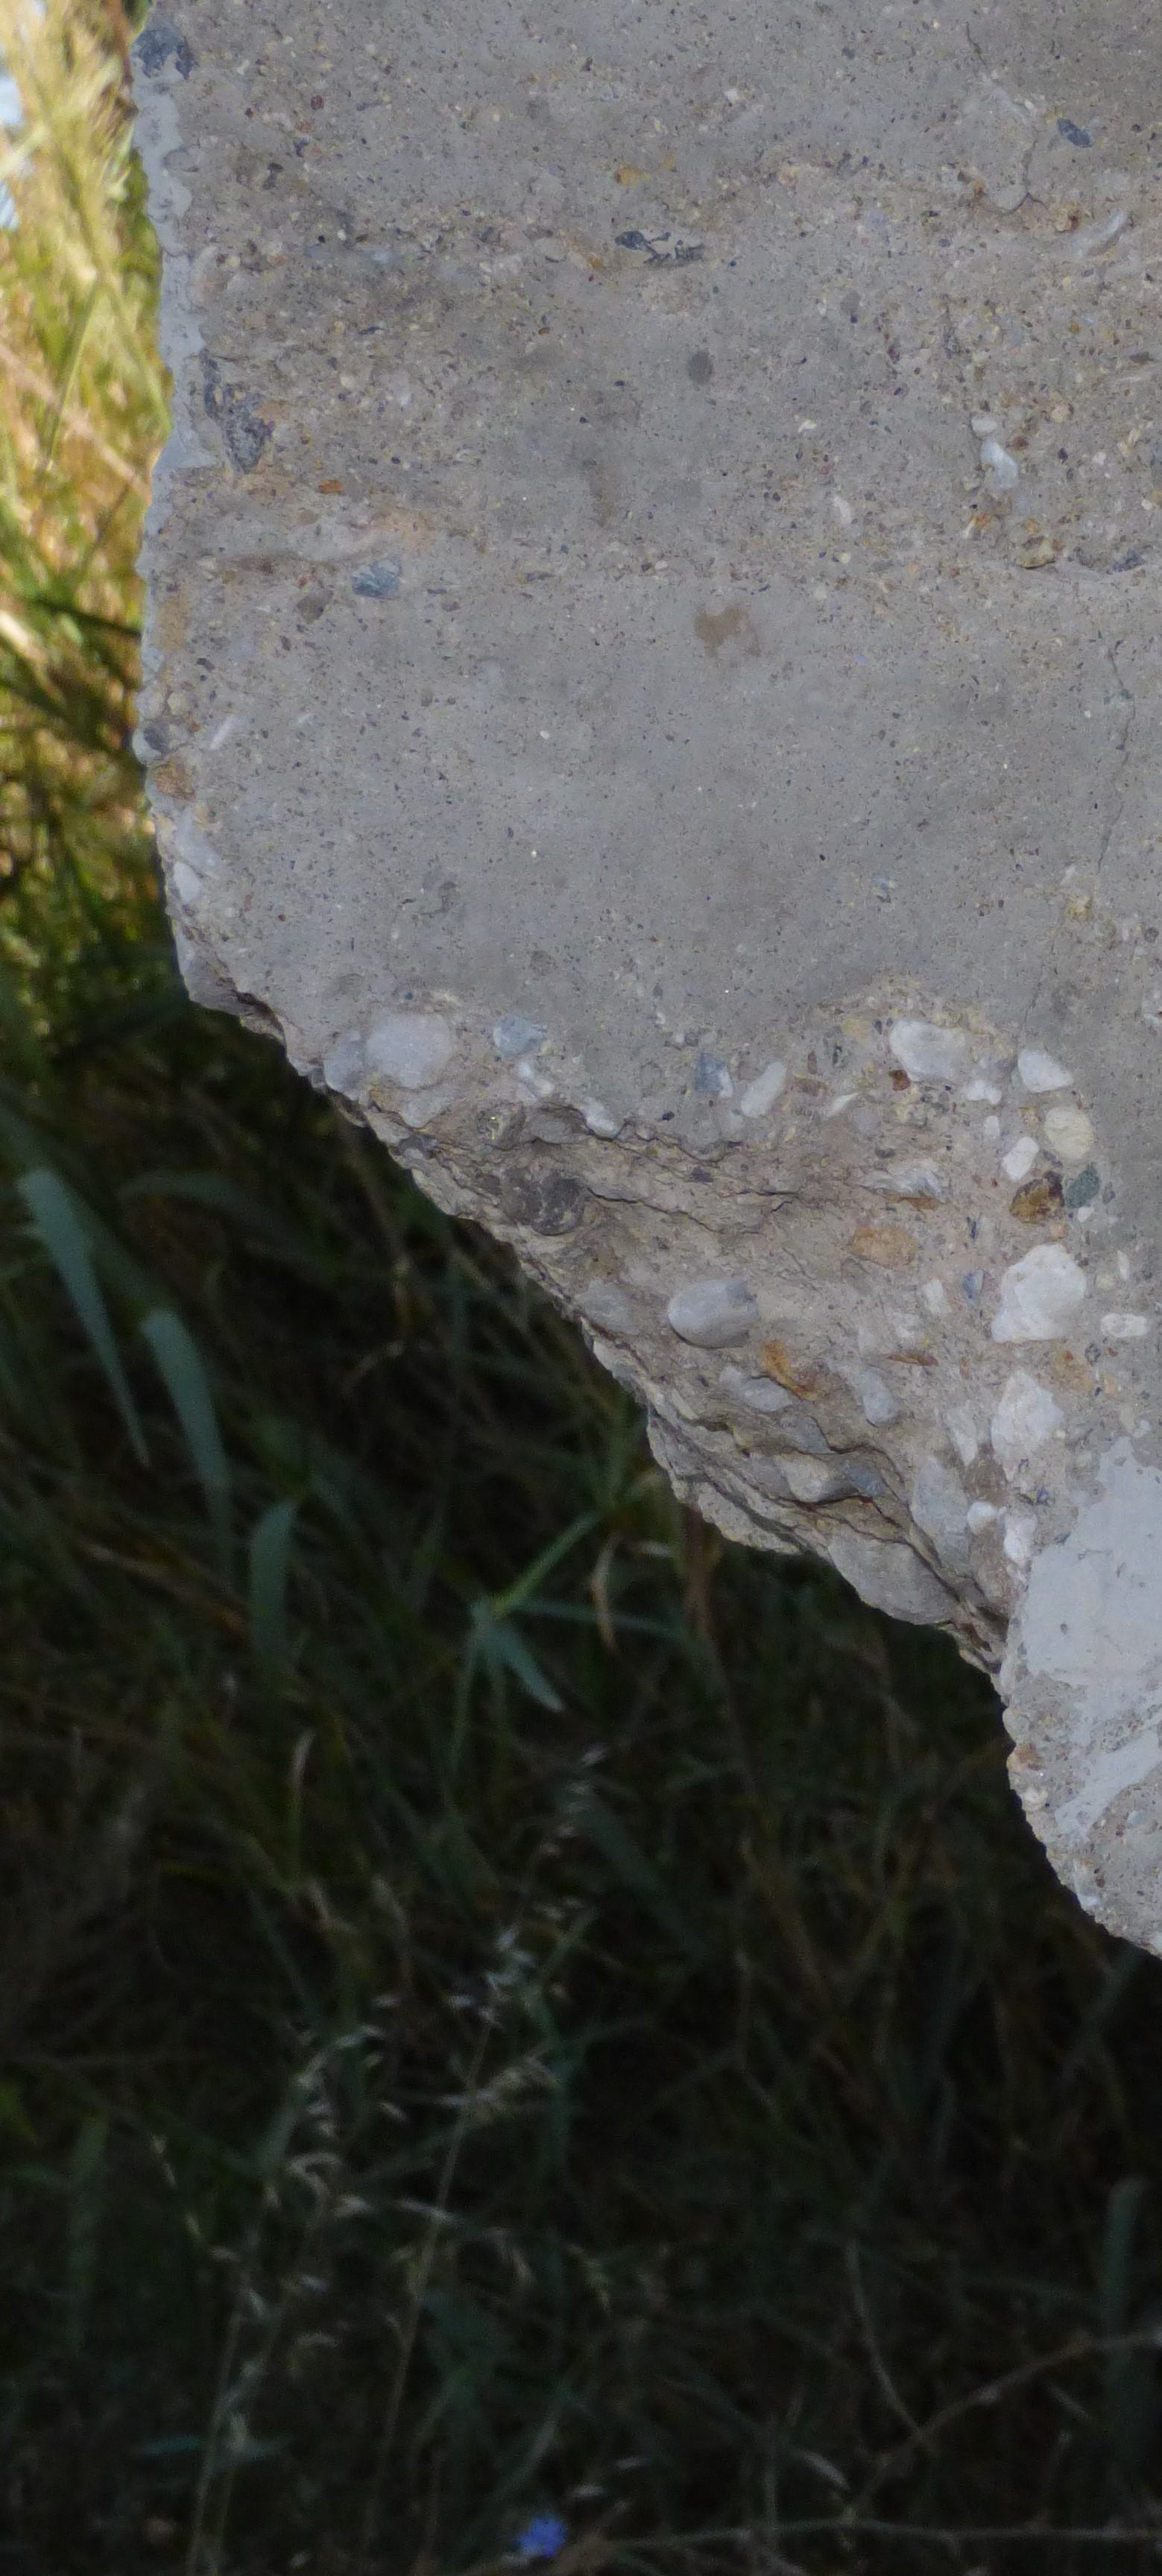Spalling: (306, 981, 1114, 1690)
